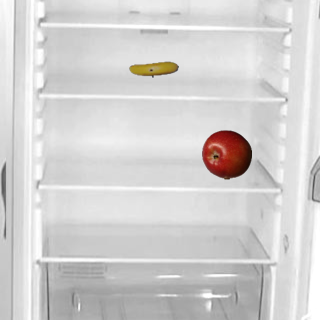Apple Braeburn: (201, 129, 251, 179)
Banana: (128, 44, 178, 94)
